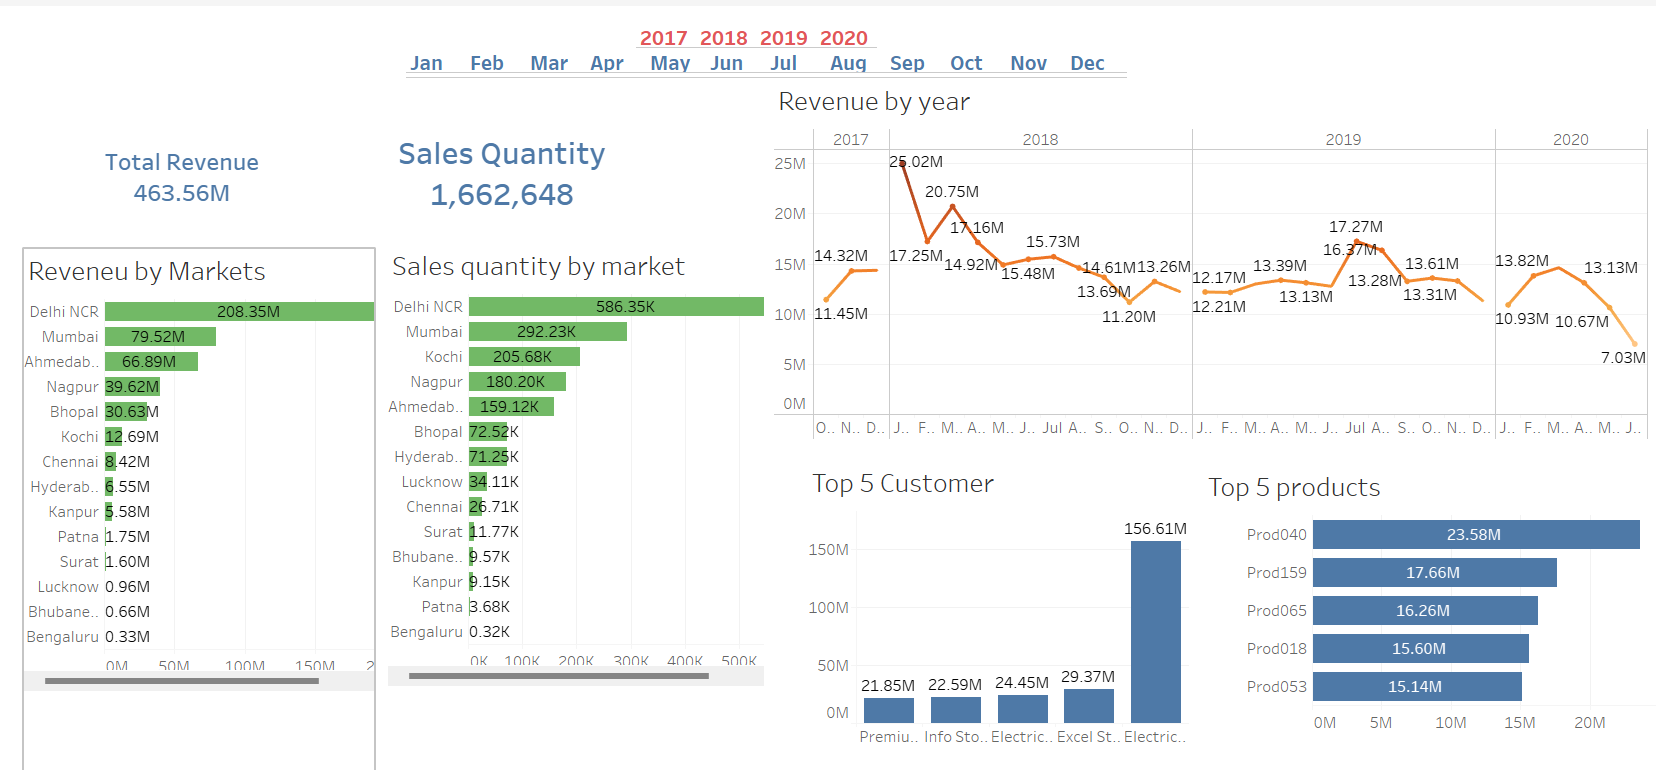

The dashboard page shown, as its layout file describes it:
{"tool":"tableau","page":{"name":"Dashboard 1","canvas":[1000,1000],"units":"permille","ordinal":0},"visuals":[{"type":"worksheet","title":"Year","mark":"Automatic","cols":["cy_date"],"box":[384.4,7.5,182.9,59.9]},{"type":"worksheet","title":"Month","mark":"Automatic","cols":["cy_date"],"box":[245.6,57.4,447.8,53.7]},{"type":"worksheet","title":"Revenue by year","mark":"Automatic","rows":["Calculation_268808645202378752"],"cols":["cy_date","cy_date"],"box":[467.7,91.1,527.5,450.7]},{"type":"worksheet","title":"Quantity","mark":"Automatic","box":[237.2,156.1,215.5,157.3]},{"type":"worksheet","title":"Revenue","mark":"Automatic","box":[56.1,173.5,166.6,133.6]},{"type":"worksheet","title":"Sales quantity by market","mark":"Automatic","rows":["markets_name"],"cols":["sales_qty"],"box":[234.8,297.1,226.9,666.7]},{"type":"worksheet","title":"Reveneu by Markets","mark":"Automatic","rows":["markets_name"],"cols":["Calculation_268808645202378752"],"box":[15.1,303.4,211.2,667.9]},{"type":"worksheet","title":"Top 5 Customer","mark":"Automatic","rows":["Calculation_268808645202378752"],"cols":["custmer_name"],"box":[488.2,568,229.9,377]},{"type":"worksheet","title":"Top 5 products","mark":"Automatic","rows":["product_code (products.csv)"],"cols":["Calculation_268808645202378752"],"box":[727.2,573,272.8,414.5]}]}

Visuals, with their boxes on the dashboard's canvas, which has no fixed pixel size, in thousandths of its width and height (x1, y1, x2, y2). These are canvas units, not pixel positions in the 1656x770 screenshot, which may show the page scaled, cropped or inside an application window:
"Year" worksheet: <bbox>384, 8, 567, 67</bbox>
"Month" worksheet: <bbox>246, 57, 693, 111</bbox>
"Revenue by year" worksheet: <bbox>468, 91, 995, 542</bbox>
"Quantity" worksheet: <bbox>237, 156, 453, 313</bbox>
"Revenue" worksheet: <bbox>56, 174, 223, 307</bbox>
"Sales quantity by market" worksheet: <bbox>235, 297, 462, 964</bbox>
"Reveneu by Markets" worksheet: <bbox>15, 303, 226, 971</bbox>
"Top 5 Customer" worksheet: <bbox>488, 568, 718, 945</bbox>
"Top 5 products" worksheet: <bbox>727, 573, 1000, 988</bbox>
